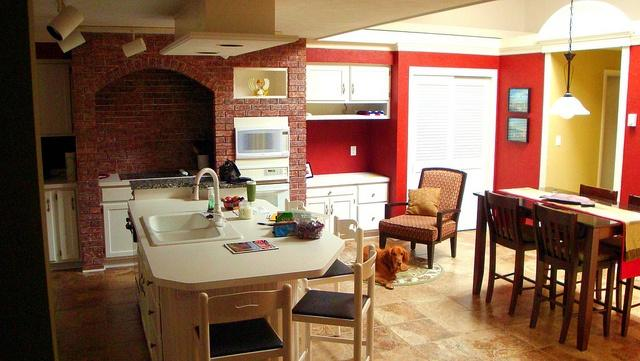Kursi: (291, 243, 377, 360), (378, 166, 466, 270), (527, 202, 584, 343), (192, 282, 293, 360), (482, 188, 536, 316)
Meja: (471, 184, 639, 254)
